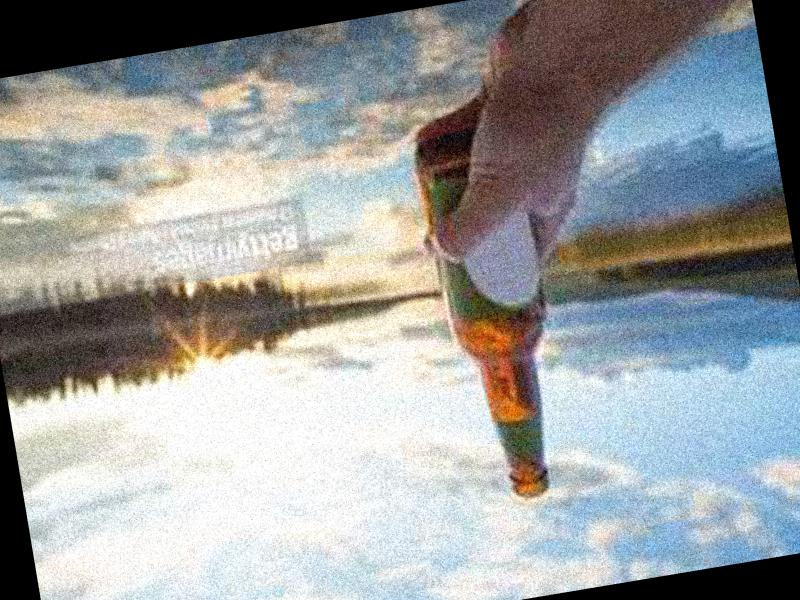Beer: (407, 127, 579, 511)
